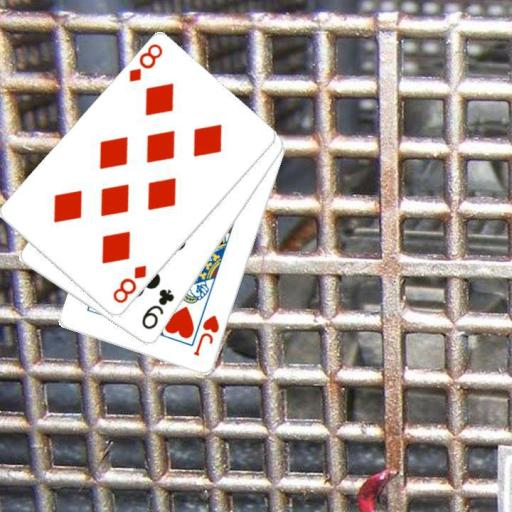8D: (110, 262, 149, 306), (125, 40, 164, 84)
9C: (138, 286, 176, 332)
JH: (191, 312, 221, 358)
